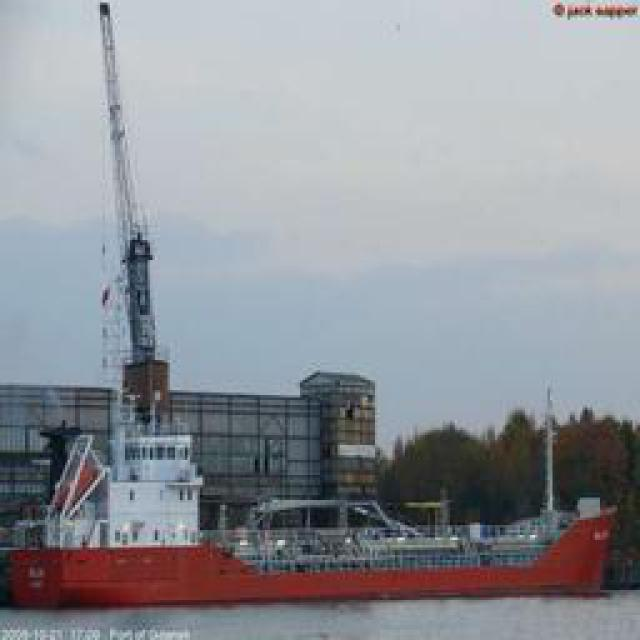Ship: (12, 500, 625, 613)
